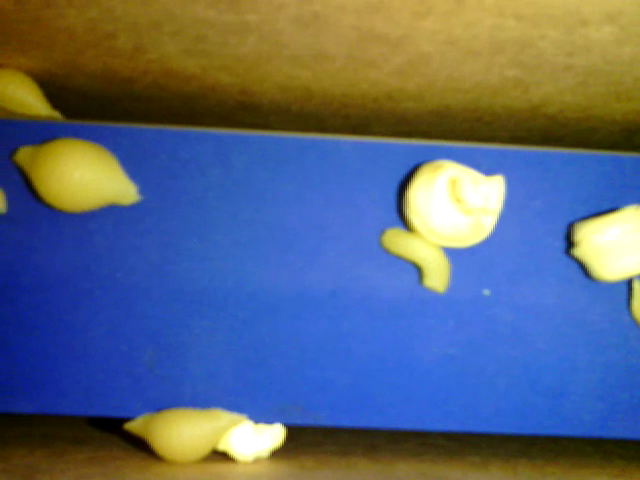elbow: (380, 226, 449, 294)
shell: (14, 134, 143, 218), (124, 407, 249, 465), (1, 66, 68, 124)
tortellini: (396, 157, 506, 251), (566, 203, 639, 288)
